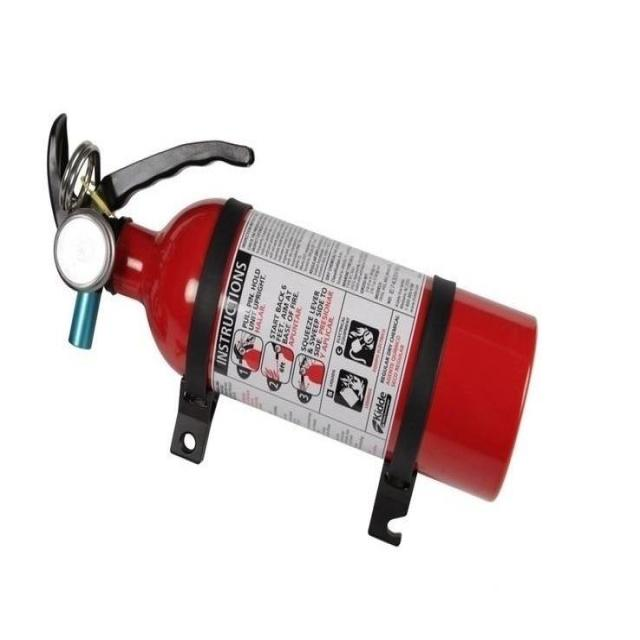fire_extinguisher: (35, 97, 546, 565)
